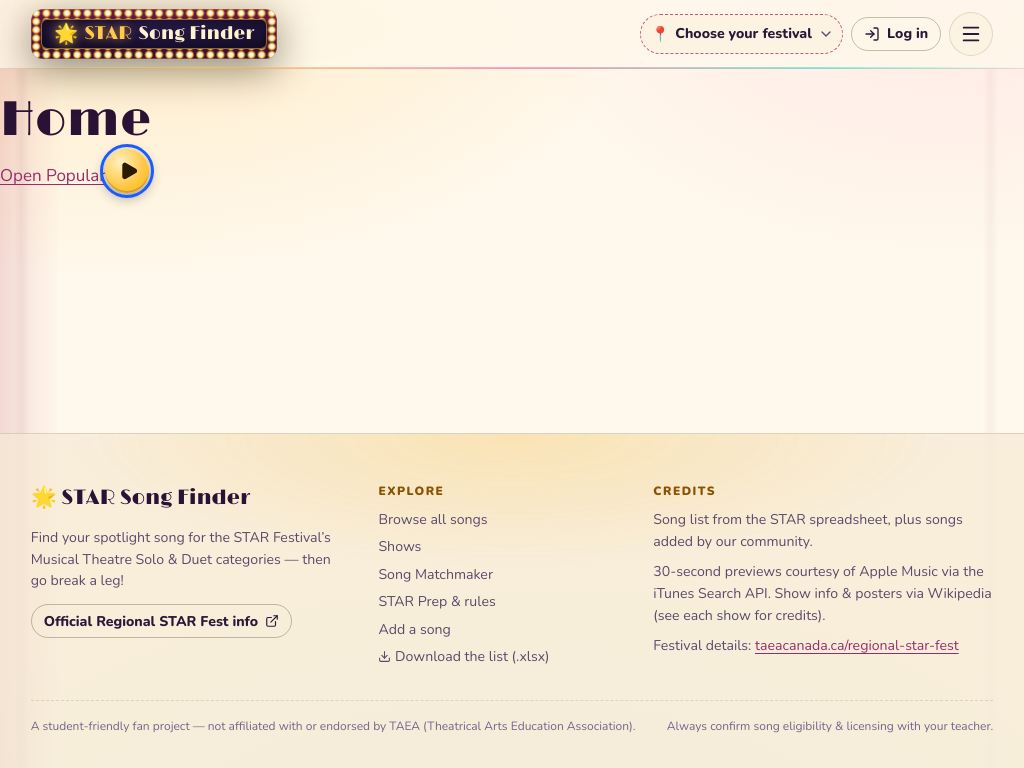
Test: MiniPlayer close › returns keyboard focus to the play button that started the preview
Step 1. Click the button with test id "play-preview" → (128, 171), box [106, 149, 150, 193]
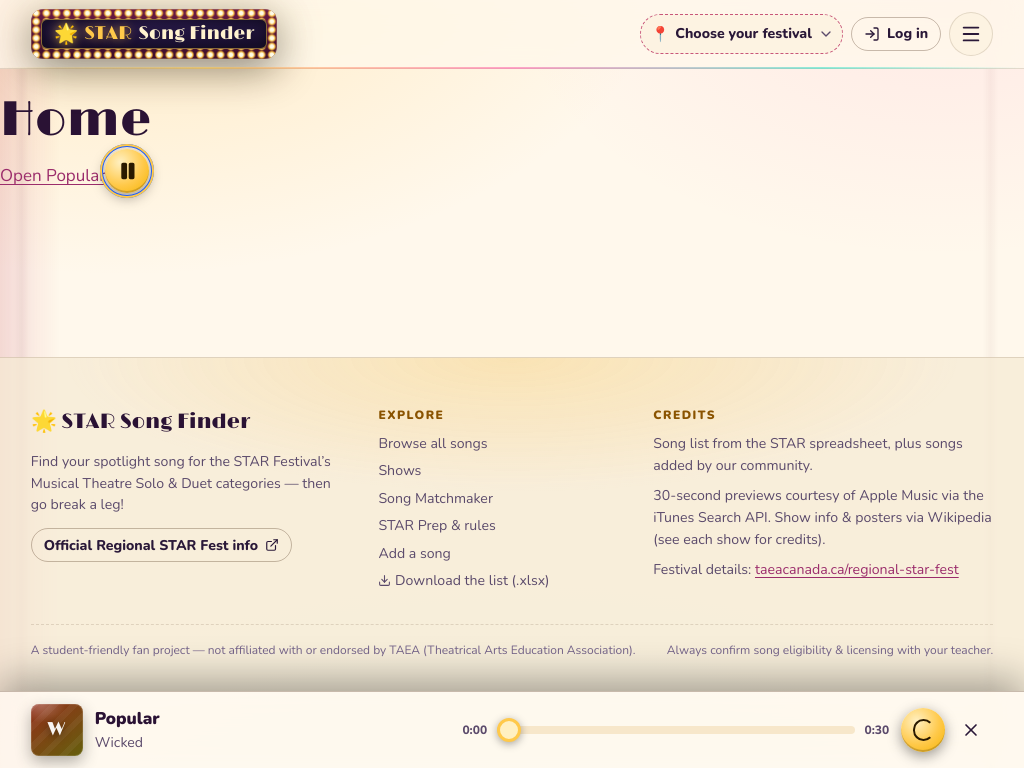
Step 2. Click the button with test id "mini-player-close" → (971, 730), box [949, 708, 993, 752]
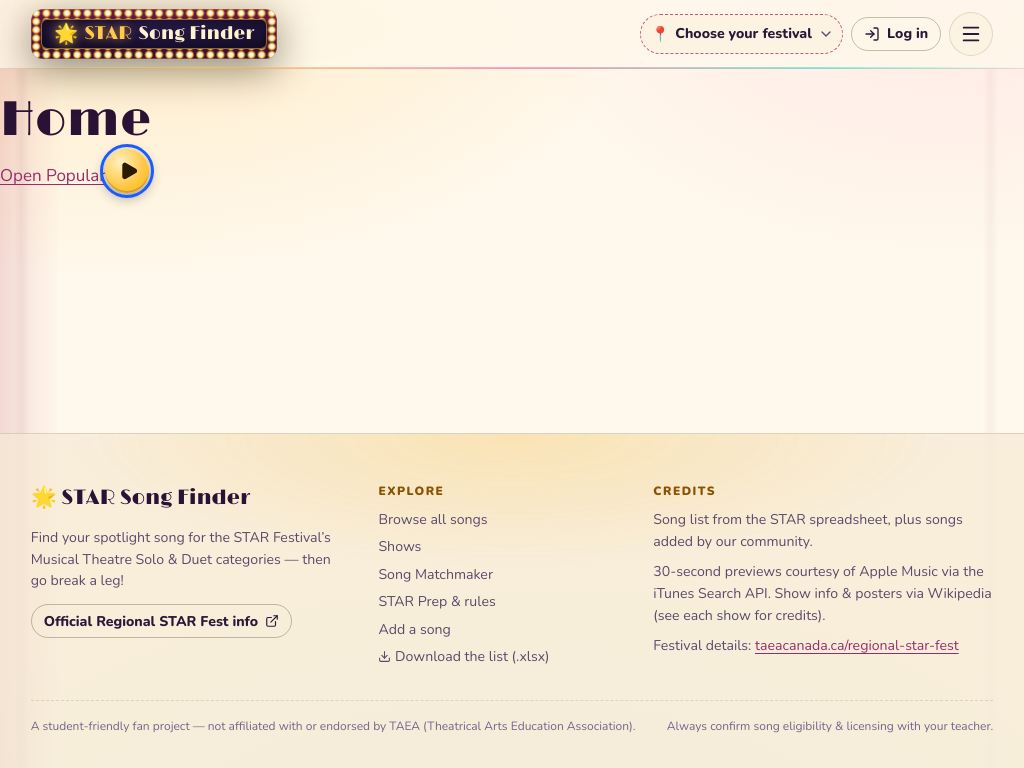
Now the element with test id "mini-player" is gone
